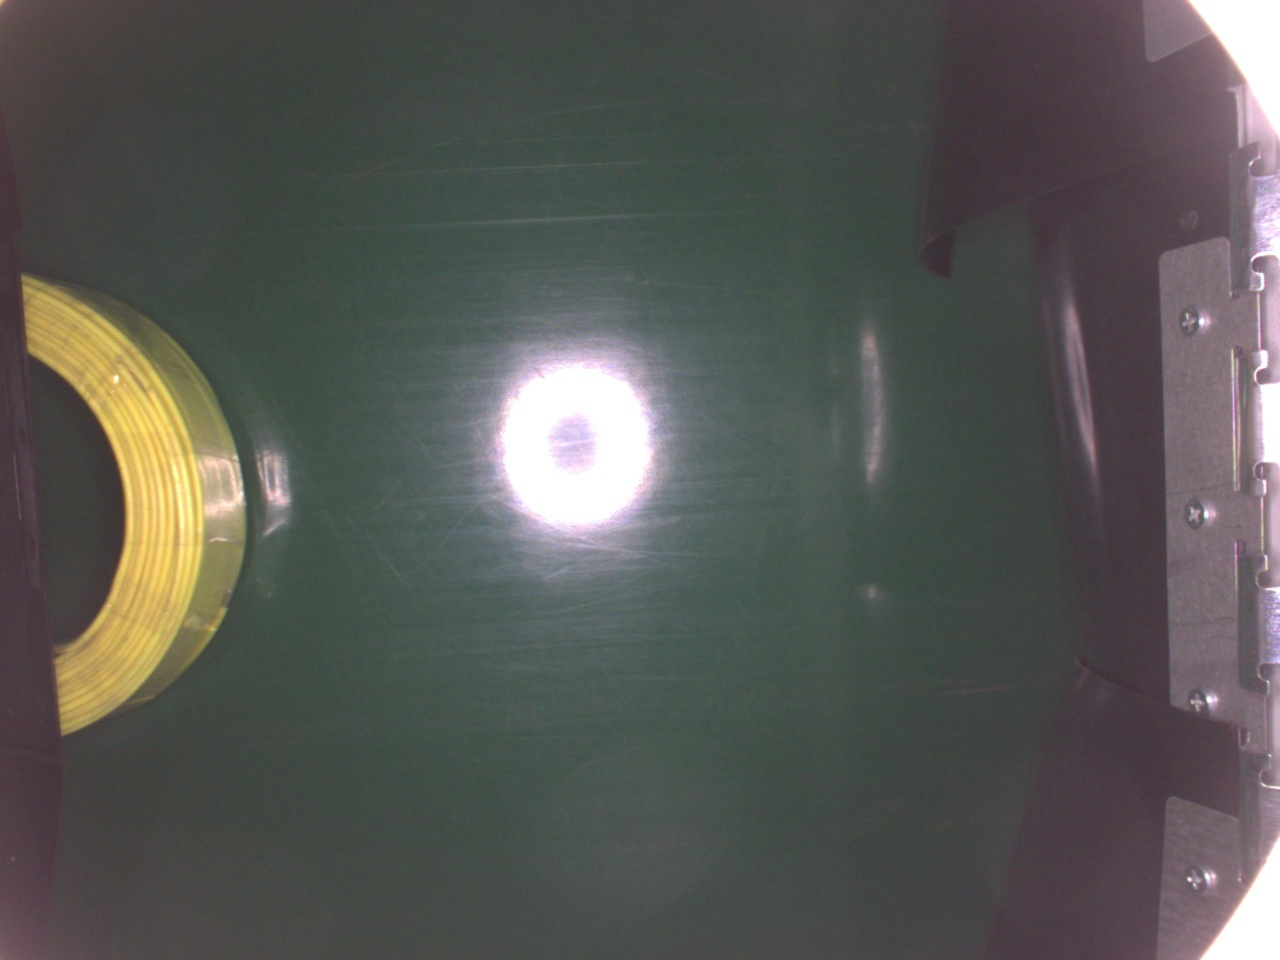yellow: (23, 266, 254, 738)
